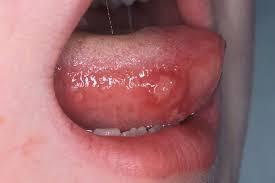Ulcer: (140, 65, 183, 108)
